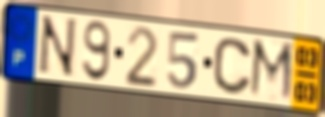2: (125, 24, 158, 89)
5: (165, 31, 201, 91)
9: (81, 18, 113, 85)
C: (212, 35, 254, 97)
M: (246, 36, 296, 105)
N: (35, 14, 79, 80)
